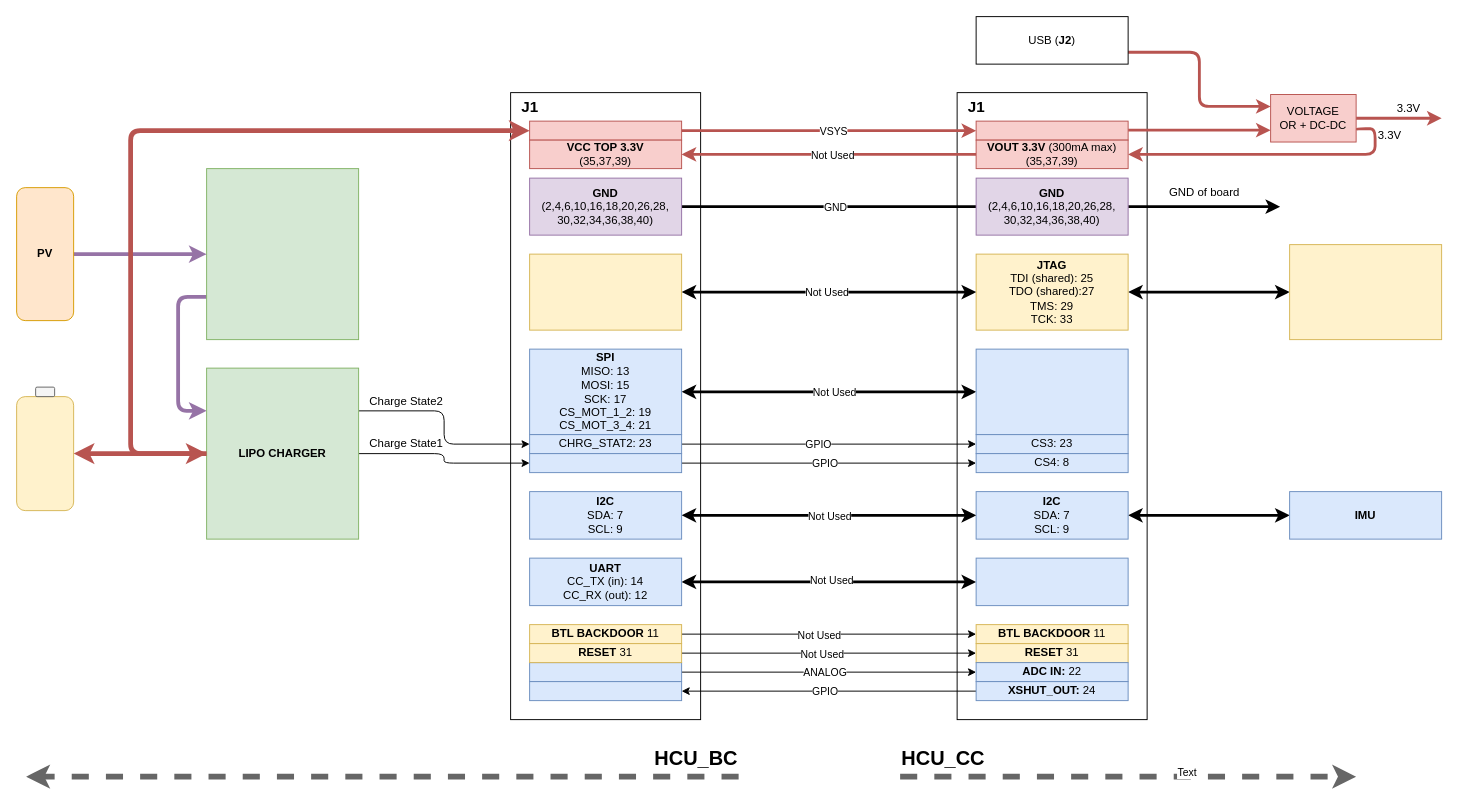
Some shapes in this 1467 by 804 pixel diagram are drawn without their labels. The shapes that lost their labels are listed below. From the top down, each one's centre as x and y in pixels, then its label:
At (605,130): "VSYS/VBAT 3.7V (1,3,5)".
At (1051,130): "VIN 4.5-17V (1,3,5)".
At (282,254): "MPPT".
At (605,291): "JTAG TDI: 25 TDO:27 TMS: 29 TCK: 33".
At (1365,292): "JTAG CON (J3) TDI (shared): 3 TDO (shared):7 TMS: 1 TCK: 11 VTG: 5".
At (1051,391): "SPI MISO: 13 MOSI: 15 SCK: 17 CS1: 19 CS2: 21".
At (45,453): "LIPO".
At (605,463): "CHRG_STAT1: 8".
At (1051,581): "UART TX (out): 14 RX (in): 12".
At (605,672): "BAT_V: 22".
At (605,691): "XSHUT: 24".
